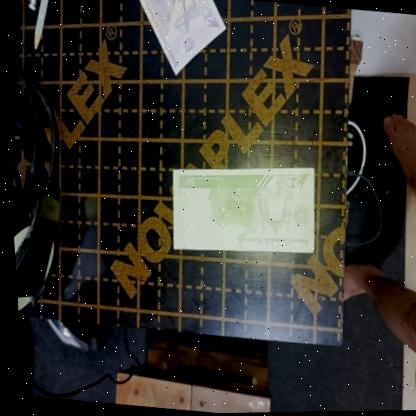fifty-back-vef: (161, 153, 319, 264)
